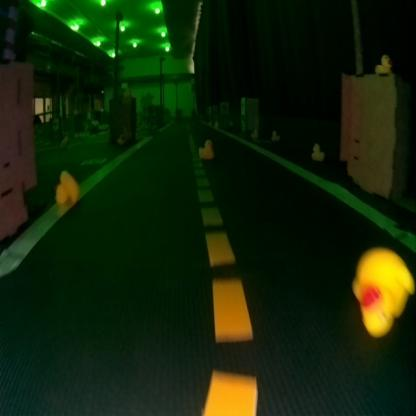Duckie: (353, 247, 414, 336), (56, 170, 77, 204), (374, 54, 392, 74), (198, 138, 213, 160), (310, 143, 323, 160), (116, 132, 124, 144), (270, 130, 279, 140), (250, 128, 257, 135)
QR code: (81, 158, 106, 166)
